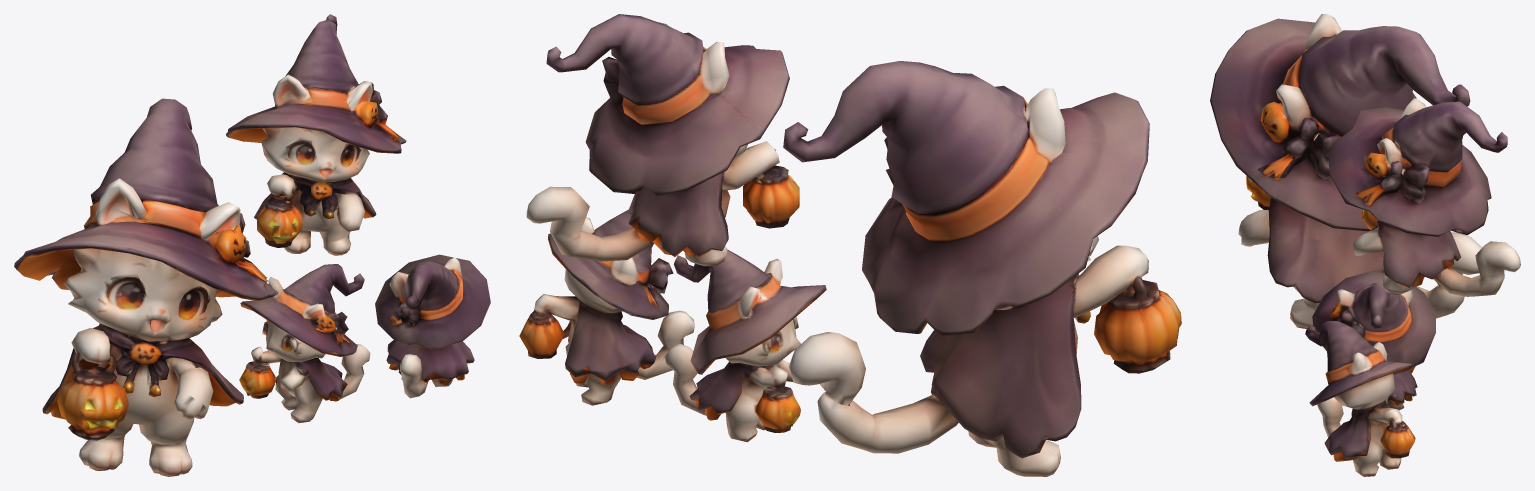
Rendered from halloween+cat+3d+model_Clone1.glb.
3 views of the same model, side by side, from view 1: azimuth 30°, elevation 25°; view 2: azimuth 150°, elevation 25°; view 3: azimuth 270°, elevation 25° (orthographic). The views are drawn at different scales.
Visible parts, largest first — view 1: tripo_node_f6ca6763-4abc-4738-a15e-979eb9d5e6ca; view 2: tripo_node_f6ca6763-4abc-4738-a15e-979eb9d5e6ca; view 3: tripo_node_f6ca6763-4abc-4738-a15e-979eb9d5e6ca.
Boxes of the visible parts, bbox=[...] form: tripo_node_f6ca6763-4abc-4738-a15e-979eb9d5e6ca: bbox=[14, 14, 490, 476]; tripo_node_f6ca6763-4abc-4738-a15e-979eb9d5e6ca: bbox=[519, 14, 1181, 476]; tripo_node_f6ca6763-4abc-4738-a15e-979eb9d5e6ca: bbox=[1210, 14, 1520, 476].
Bounding box in the file's own units: 0.9782 × 0.7026 × 0.5877.
1 material, 1 textured.
